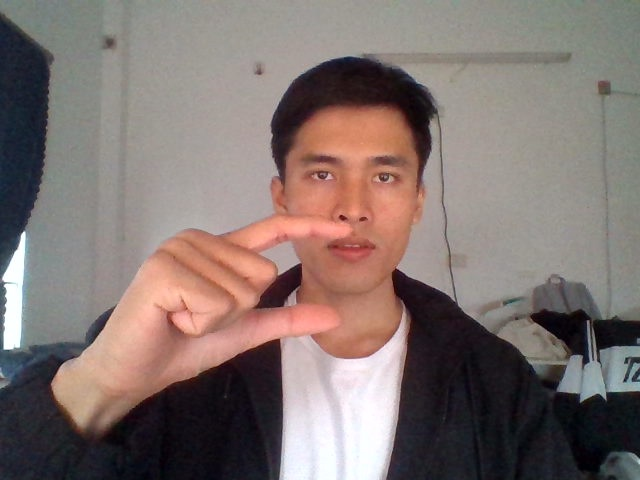No: (106, 210, 354, 384)
